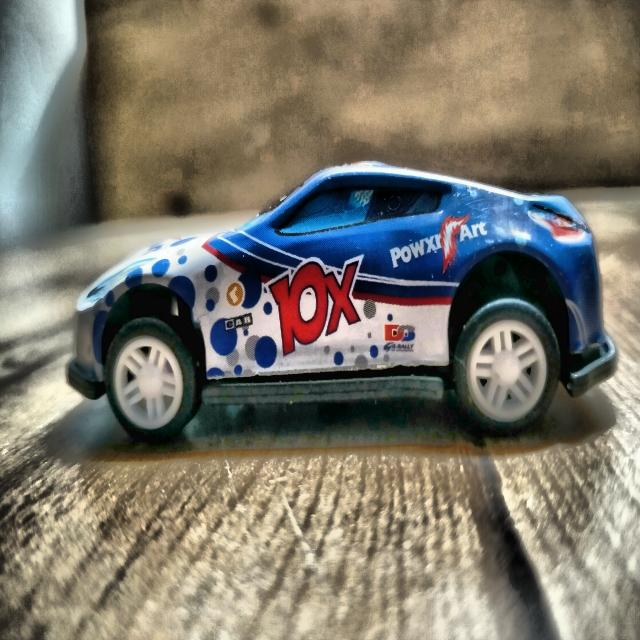Car: (68, 162, 616, 438)
